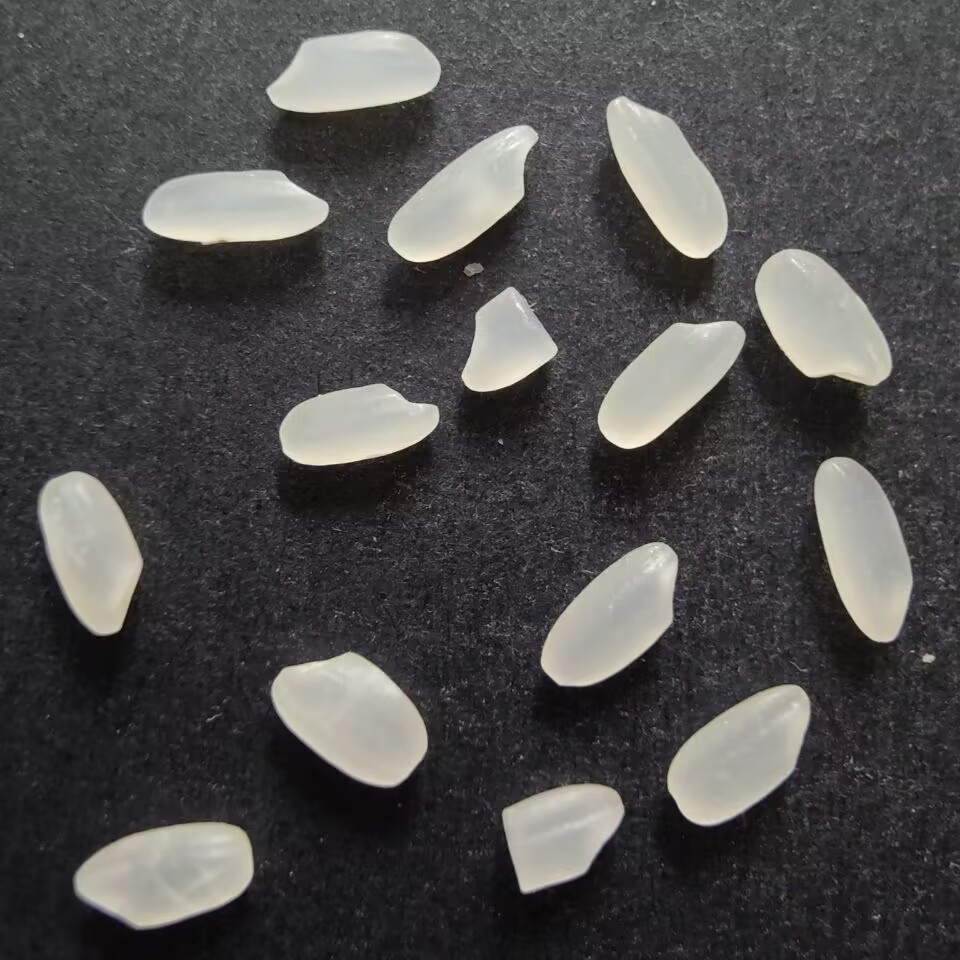broken: (497, 780, 627, 898), (456, 285, 561, 397)
rice: (265, 648, 434, 791), (385, 119, 543, 267), (537, 540, 680, 692), (66, 818, 257, 931), (809, 452, 918, 647), (604, 95, 732, 261), (665, 683, 811, 828), (597, 315, 749, 452), (752, 245, 893, 387), (37, 469, 147, 642), (259, 28, 444, 115), (271, 377, 445, 468), (141, 168, 331, 249)
